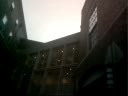window: (116, 42, 128, 67), (82, 51, 91, 76), (64, 56, 70, 76), (80, 88, 91, 96), (59, 90, 68, 96)
